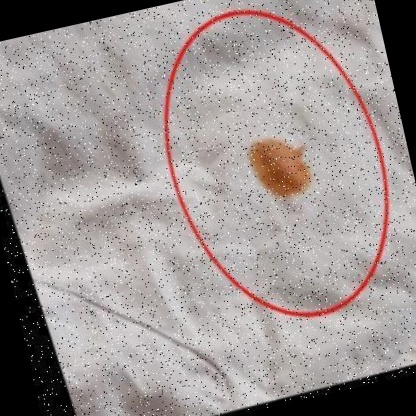kimchi: (230, 114, 327, 223)
